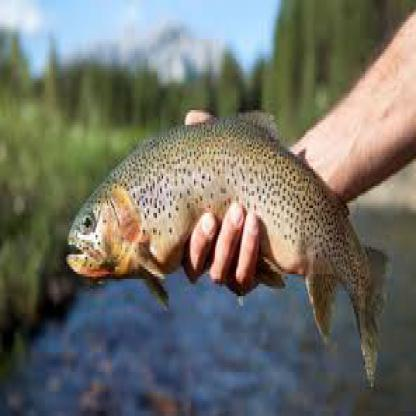fish: (65, 103, 388, 391)
